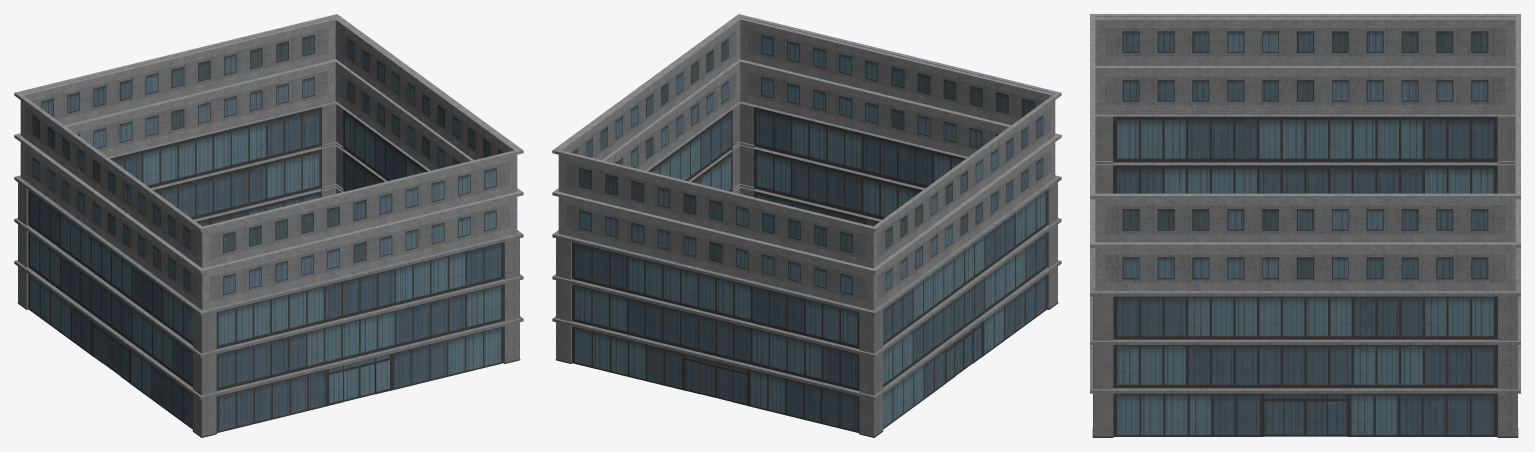
The model's file is jctBld24_D_btm_low.fbx.
3 renders of one model, left to right at view 1: azimuth 30°, elevation 25°; view 2: azimuth 150°, elevation 25°; view 3: azimuth 270°, elevation 25°, orthographic. The views are drawn at different scales.
Parts seen in each view (by area): view 1: jctBld24_D_btm_low; view 2: jctBld24_D_btm_low; view 3: jctBld24_D_btm_low.
Boxes of the visible parts, left/top/right/bottom form: jctBld24_D_btm_low: left=14, top=14, right=523, bottom=437; jctBld24_D_btm_low: left=552, top=14, right=1061, bottom=437; jctBld24_D_btm_low: left=1090, top=14, right=1520, bottom=437.
Size of the model in its own units: 2410 by 1500 by 2410.
